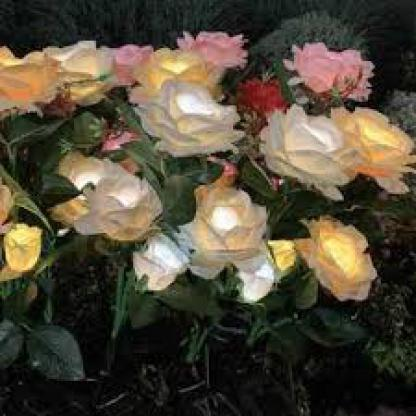Rose-Mawar: (1, 32, 412, 303)
